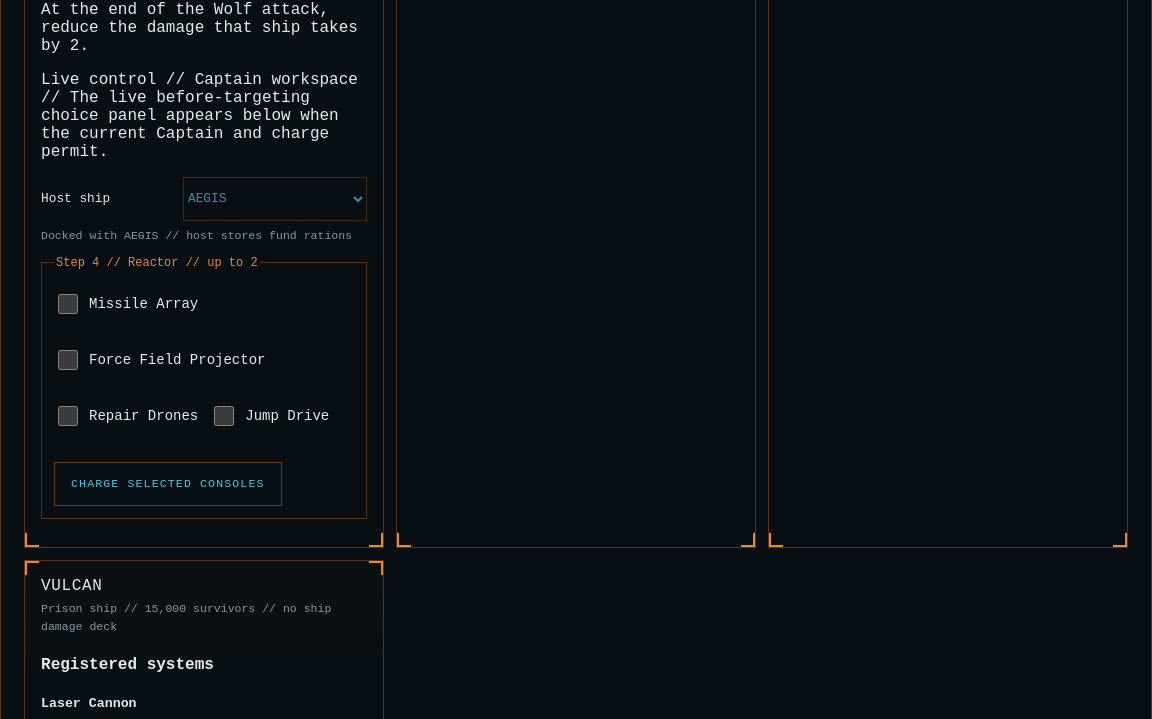
charges the canonical Force Field Projector id and renders only authoritative charge state
(page scrolled)
Click the checkbox labelled "Force Field Projector" at x=68, y=360, box [58,350,78,370]
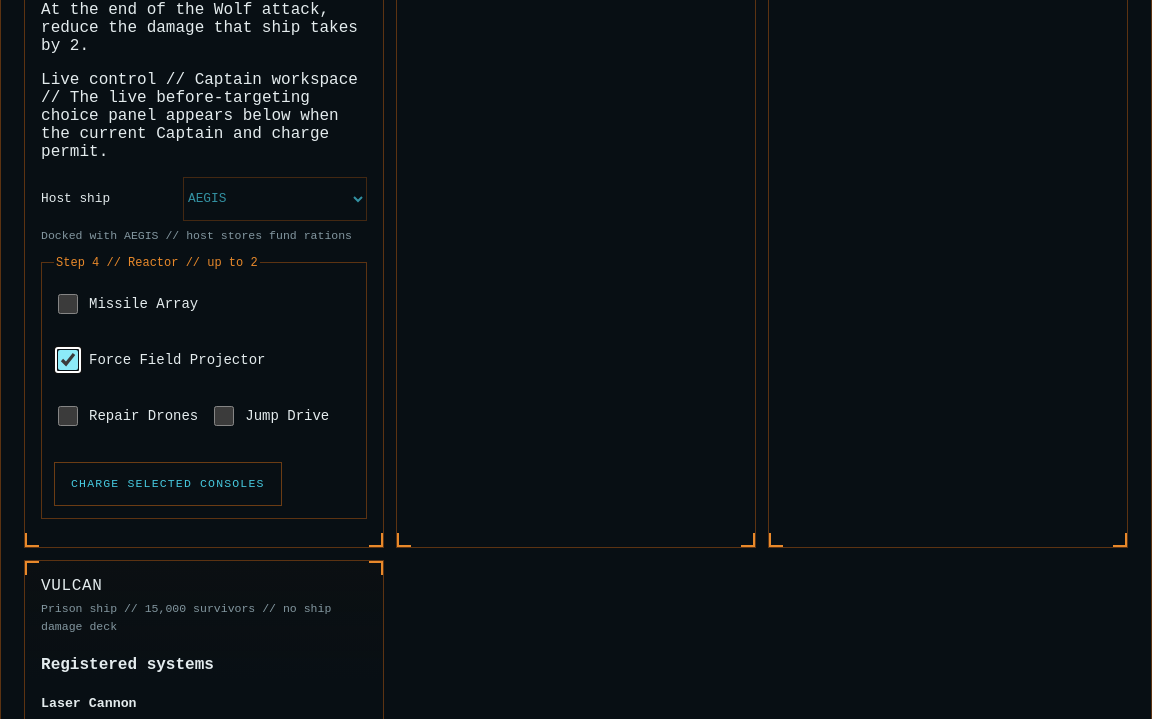
Click the button "Charge selected consoles" at x=168, y=484, box [54,462,282,506]
(page scrolled)
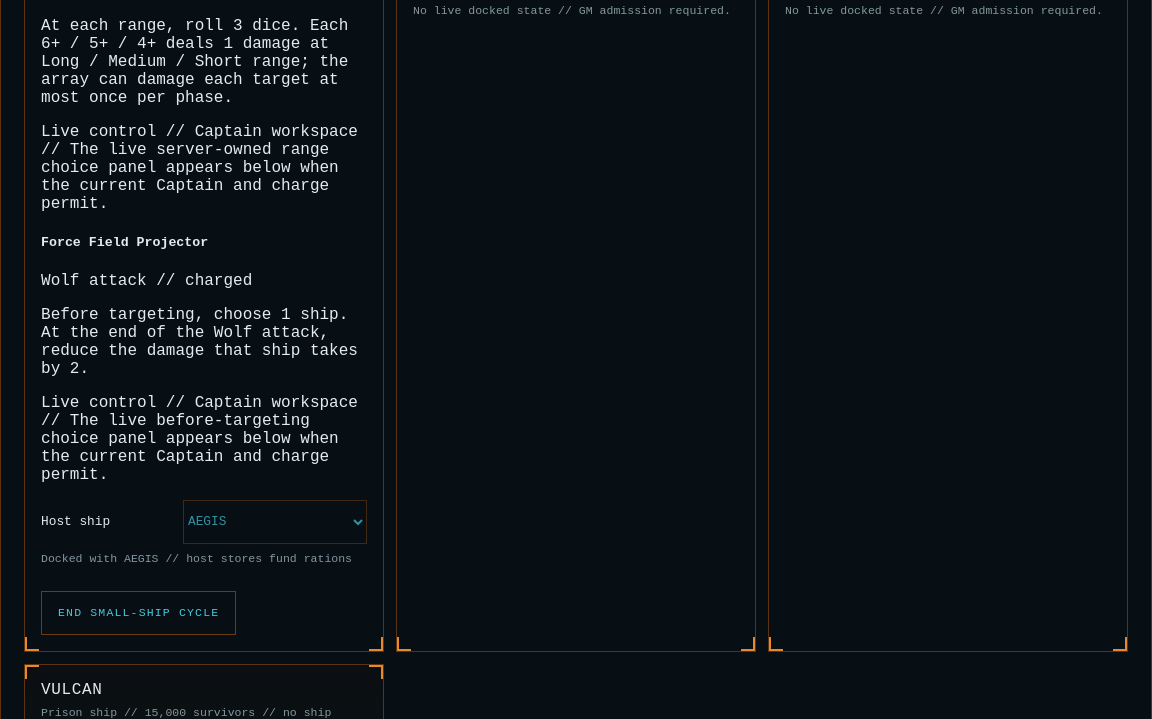
Now the element named "Force Field Projector system // live-below" shows "Wolf attack // charged", box [41,235,367,484]
